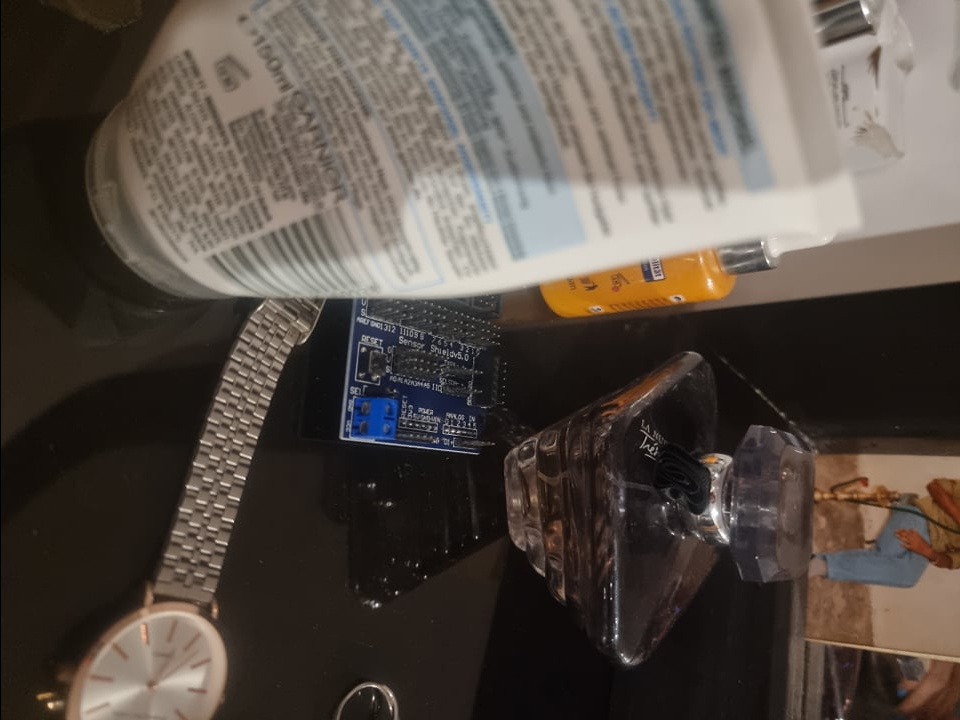5V EXPANSION: (333, 290, 510, 458)
